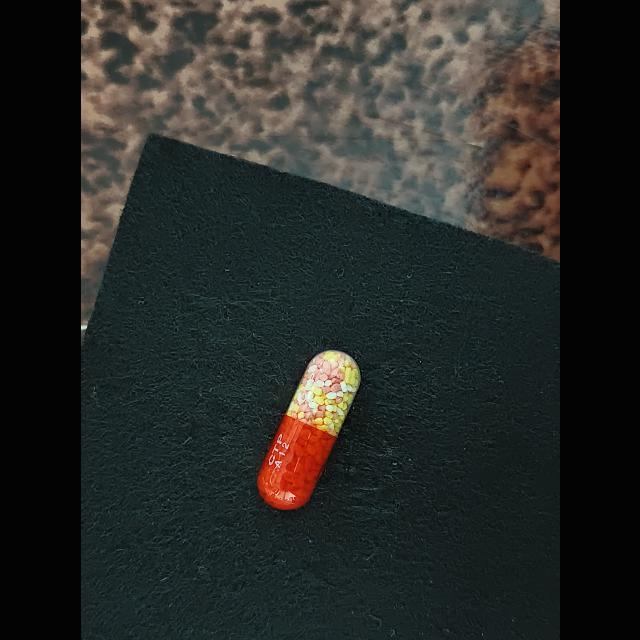Intact Capsule: (256, 350, 360, 510)
